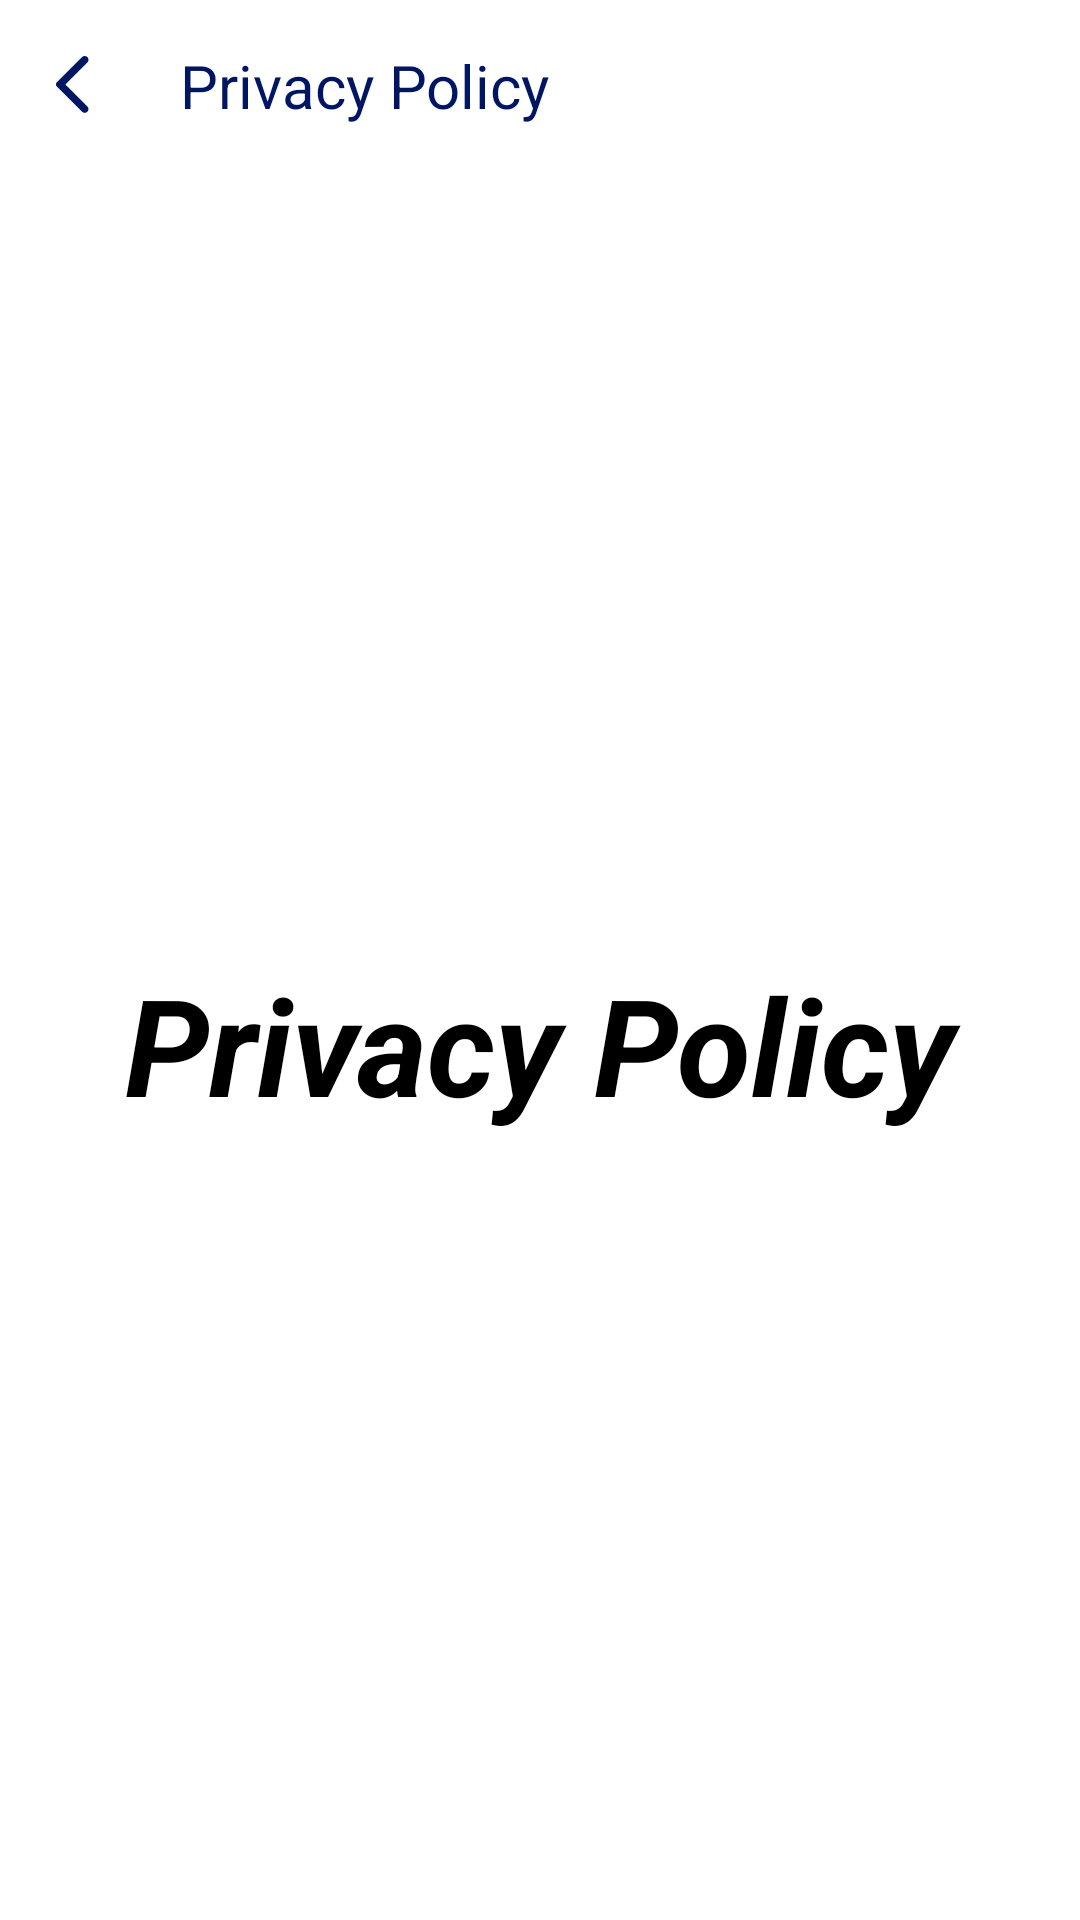

Icon bounding boxes for this 1080px x 1920px phone screenshot, format (x1=x1, y1=y1, x2=x2, y2=y2):
arrow back: (x1=56, y1=56, x2=89, y2=113)
